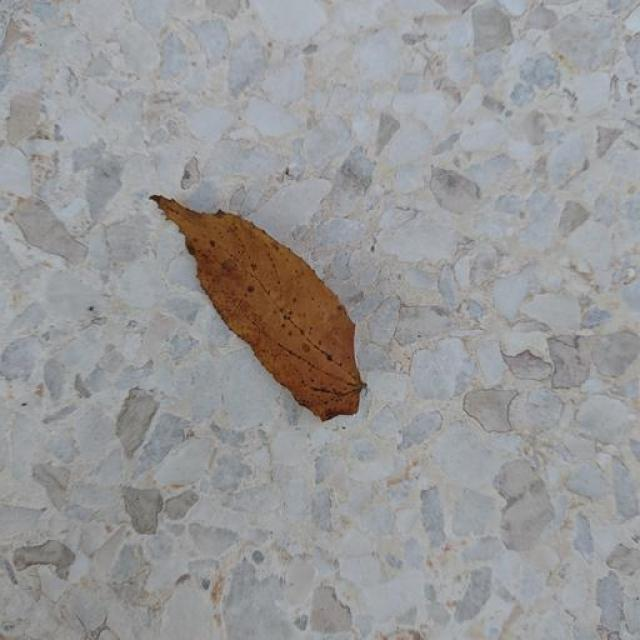organic: (152, 197, 363, 419)
